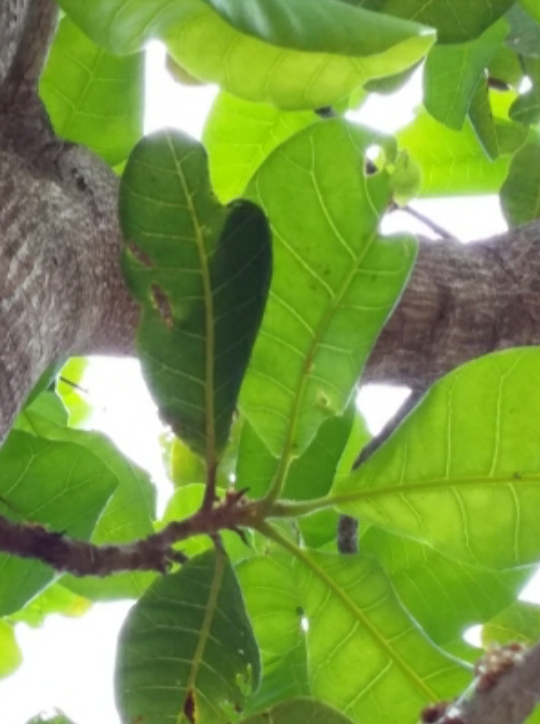Anoplonemis curvipes: (232, 102, 429, 455)
